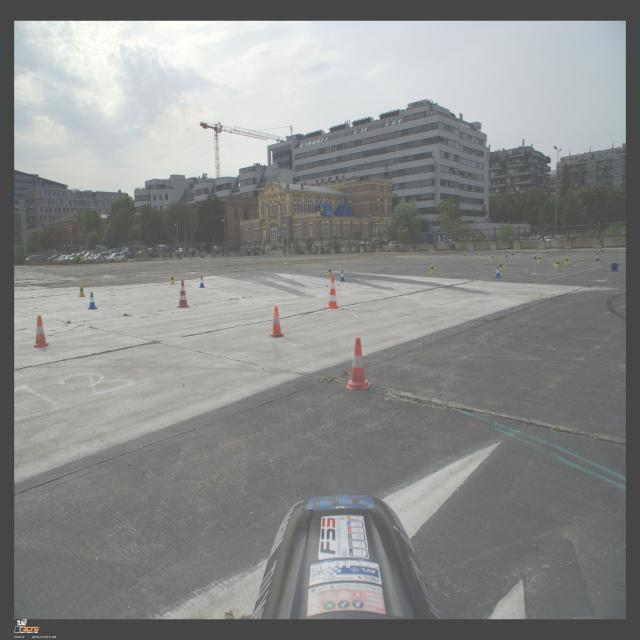blue_cone: (86, 292, 98, 310), (494, 266, 502, 278), (339, 270, 346, 282), (610, 262, 618, 272), (199, 276, 205, 288), (594, 253, 600, 261), (533, 252, 537, 260), (504, 251, 508, 257), (510, 250, 514, 256), (546, 248, 550, 254), (600, 246, 604, 252)
large_orange_cone: (324, 276, 340, 308), (176, 279, 190, 308)
orange_cone: (346, 338, 371, 390), (31, 316, 51, 348), (270, 306, 284, 338)
yellow_cone: (77, 284, 87, 298), (554, 258, 561, 268), (169, 274, 175, 284), (327, 266, 333, 276), (429, 264, 435, 274), (564, 256, 570, 266), (499, 260, 503, 272), (490, 254, 494, 262), (538, 255, 542, 263), (462, 252, 467, 258), (598, 246, 602, 252), (478, 250, 481, 256), (535, 248, 537, 253)
